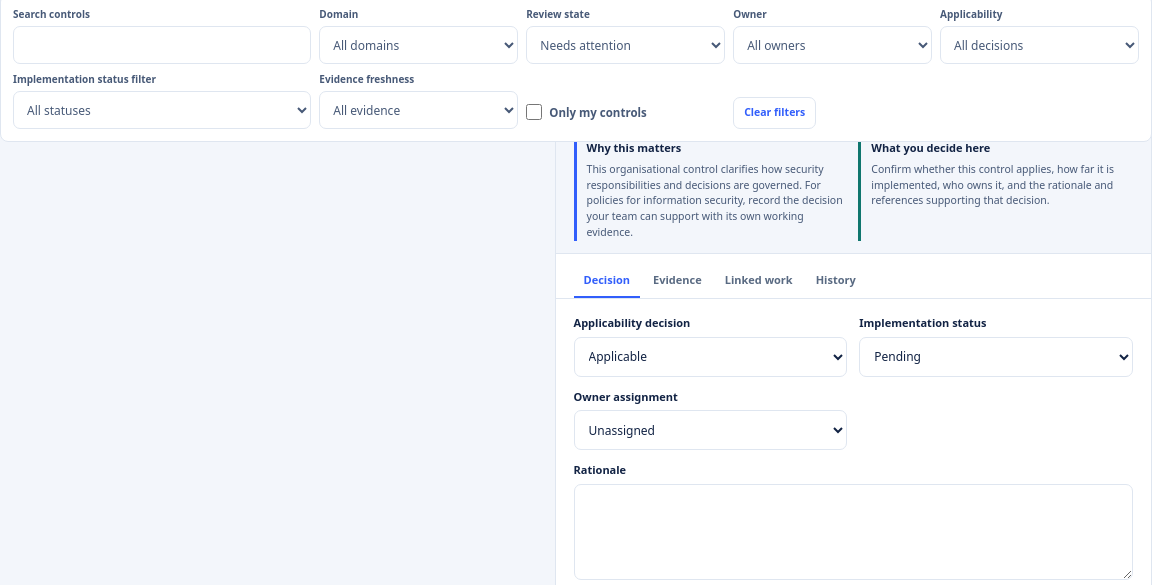
Test: SoaReviewWorkspace › labels optional linked-work and history failures instead of claiming empty records
The image size is (1152, 585).
(page scrolled)
What coordinates should you click on to do the following:
click the tab "Linked work"
I would click on:
 (759, 281)
Its box is [715,264,803,298].
(page scrolled)
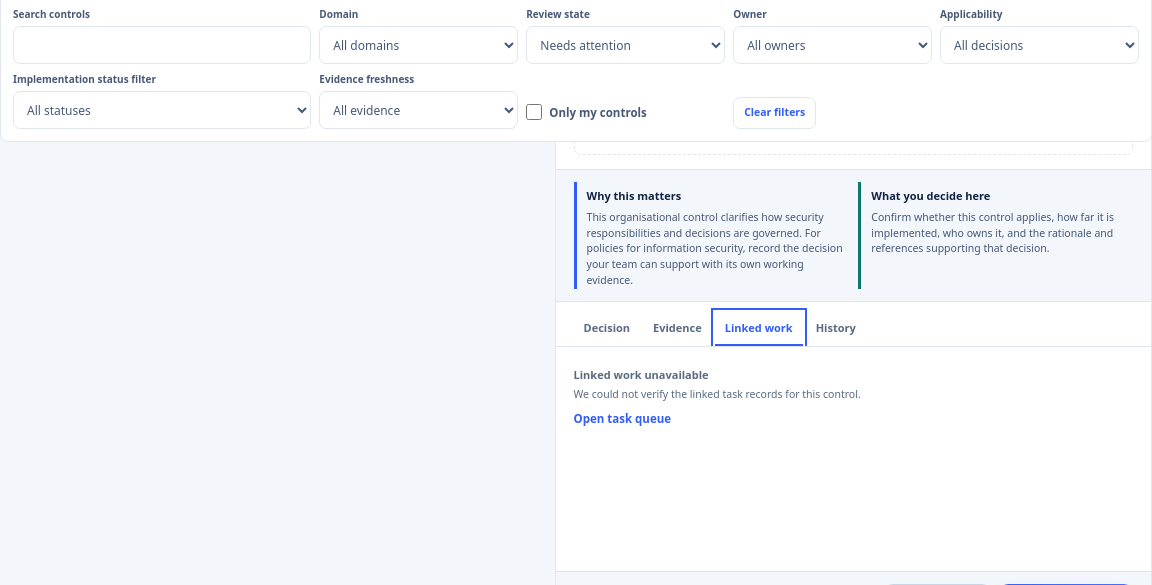
Expected: the text "Linked work unavailable" is shown, [574,367,708,382]
What coordinates should you click on to do the following:
click the tab "History"
I would click on:
 (836, 329)
Its box is [806,312,866,346].
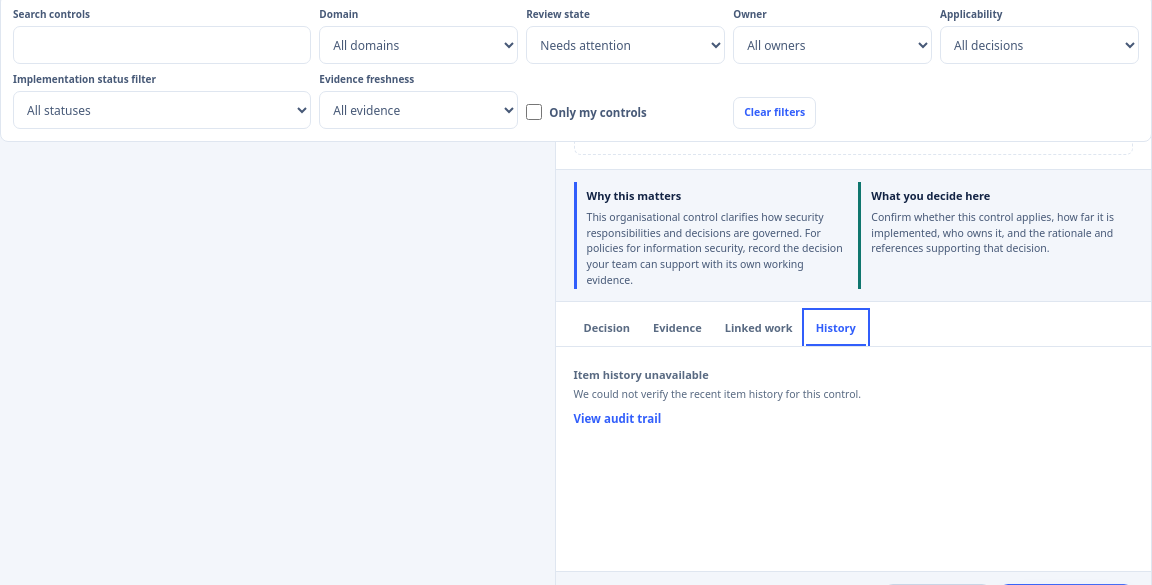
Expected: the text "Item history unavailable" is shown, [574,367,709,382]
